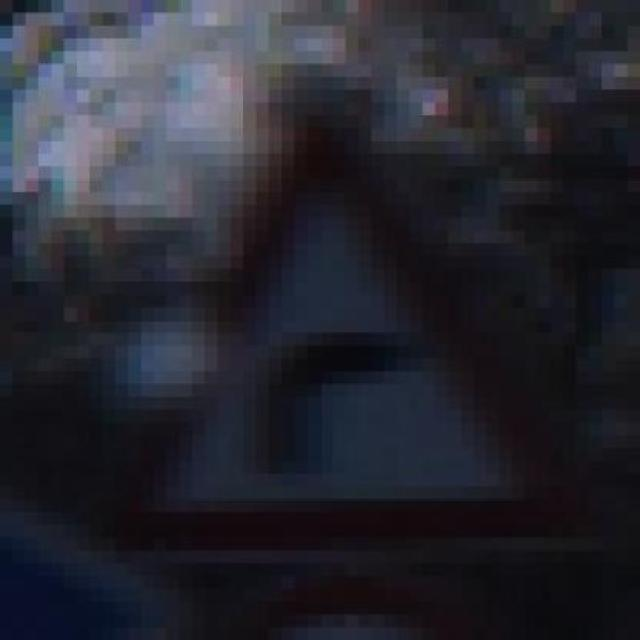Dangerous Rright Curve Ahead: (116, 115, 602, 576)
